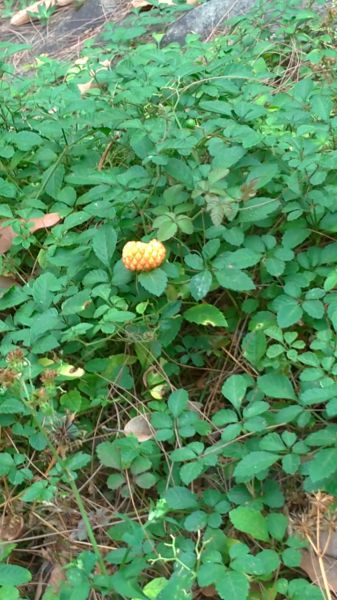eggs: (117, 234, 174, 277)
